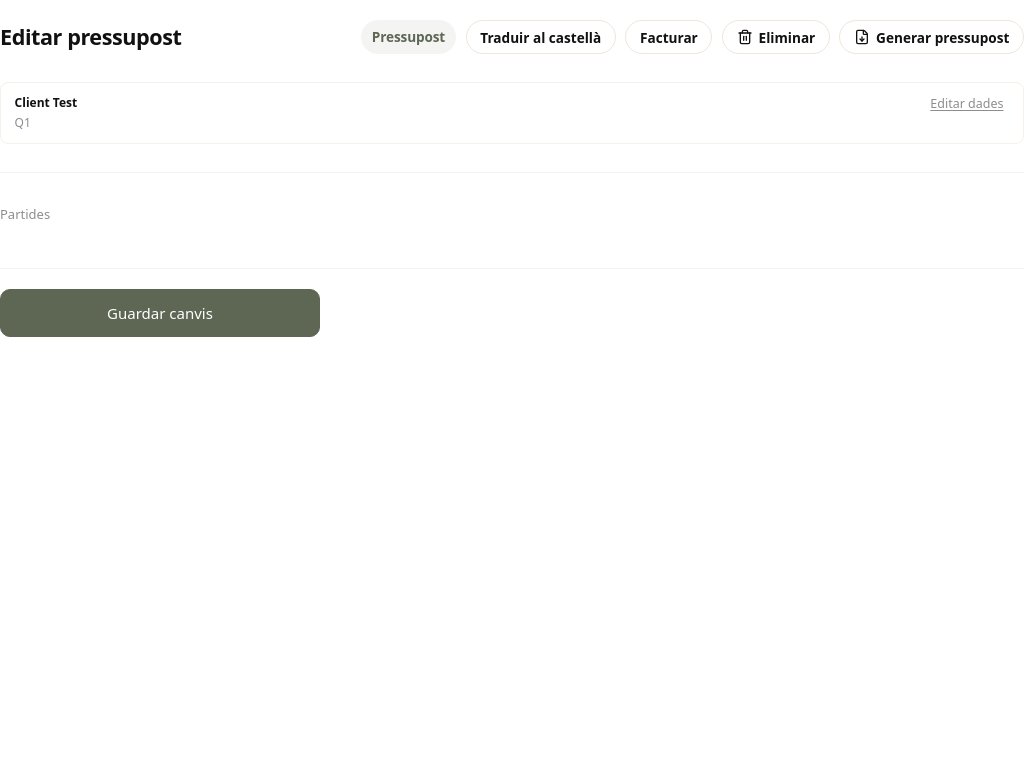
Test case: Create budget › closes invoice confirmation modal on cancel without redirect
Click the button "Facturar". click: (669, 37)
box: [625,20,712,54]
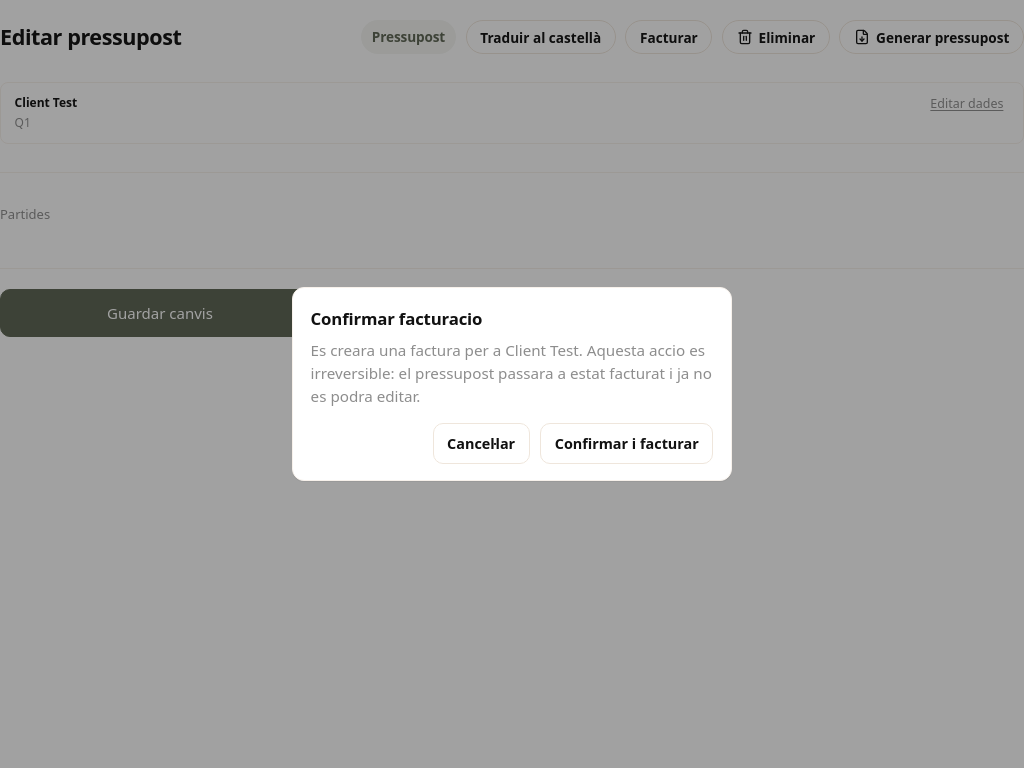
Expected: the heading "Confirmar facturacio" is shown, [311,307,482,330]
Click the button "Cancel·lar". click: (481, 444)
box: [432,424,530,464]
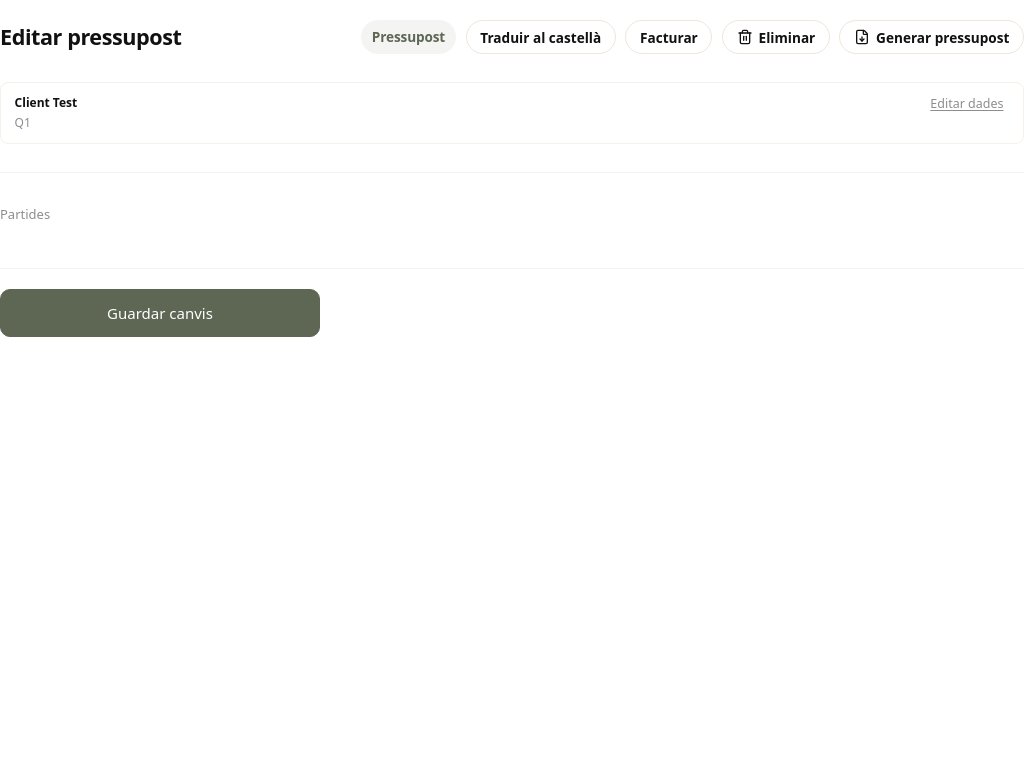
Expected: the heading "Confirmar facturacio" is gone
